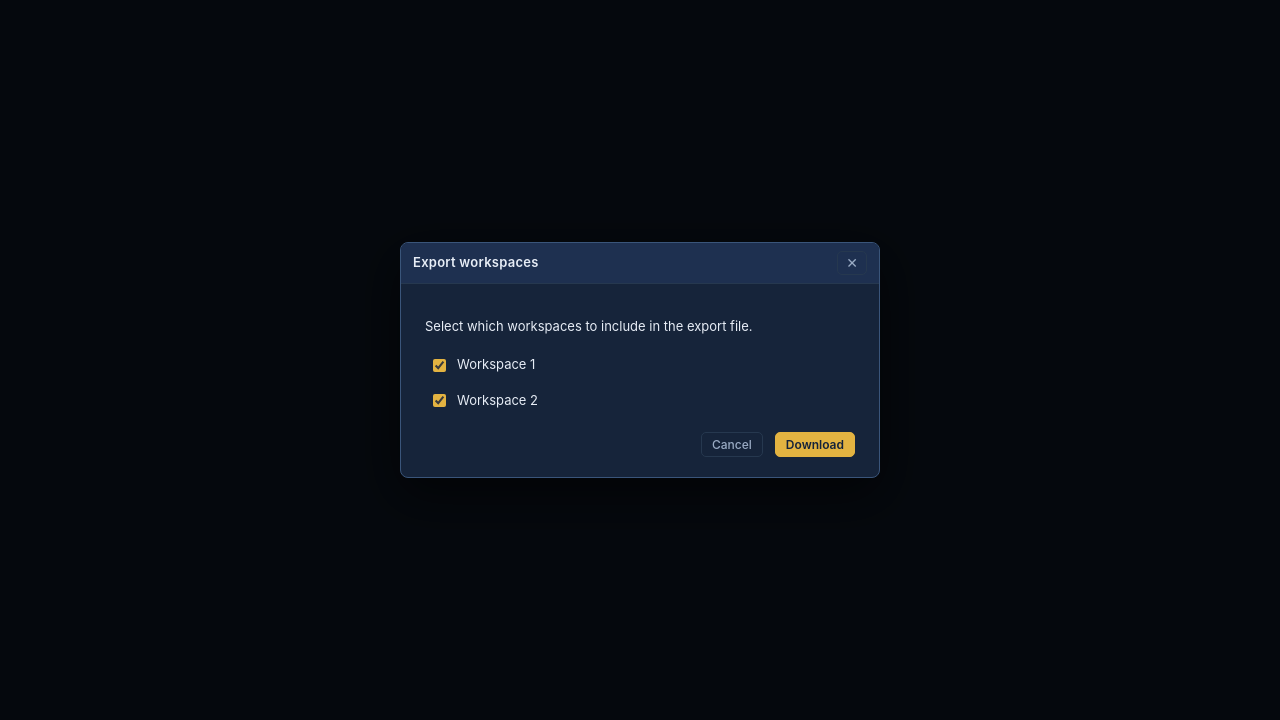
Test case: ExportDialog › checks all workspaces by default and disables Download when none are selected
Check: the button "Download" is enabled, box [775,432,855,457]
Click the checkbox labelled "Workspace 1" at (440, 365), box [433,358,446,372]
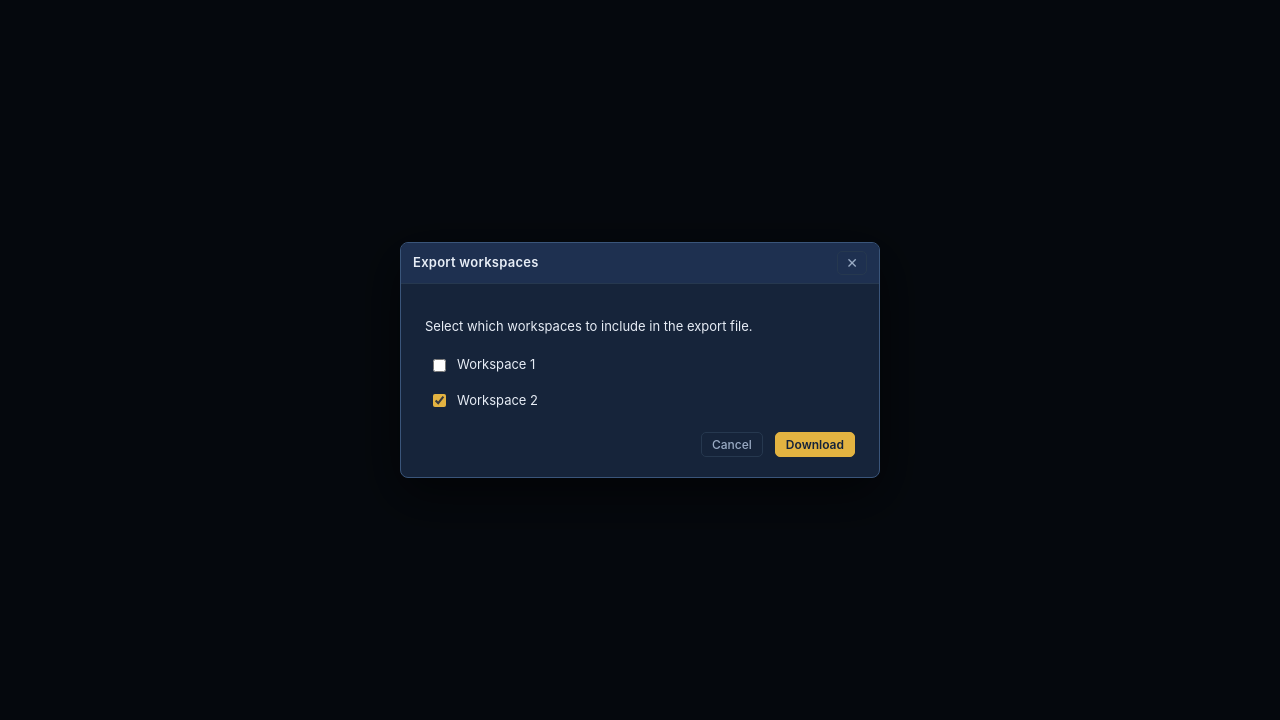
Click the checkbox labelled "Workspace 2" at (440, 400), box [433,394,446,407]
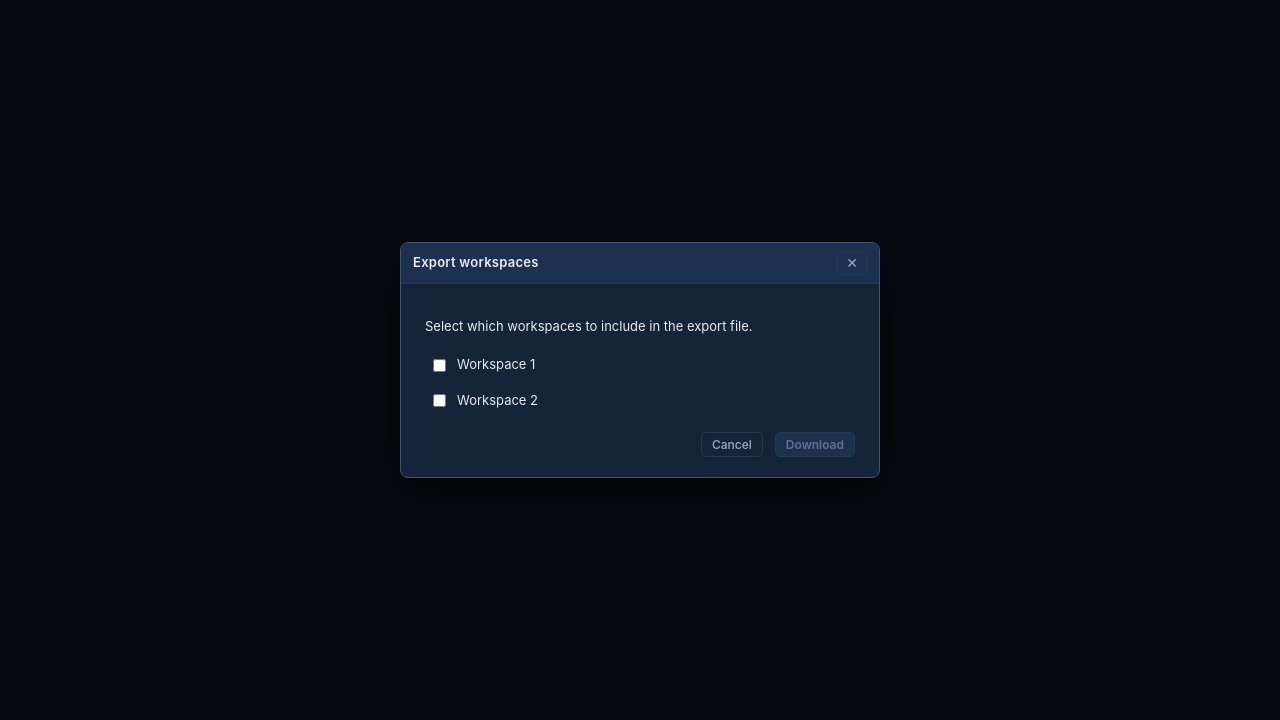
Check: the button "Download" is disabled, box [775,432,855,457]
